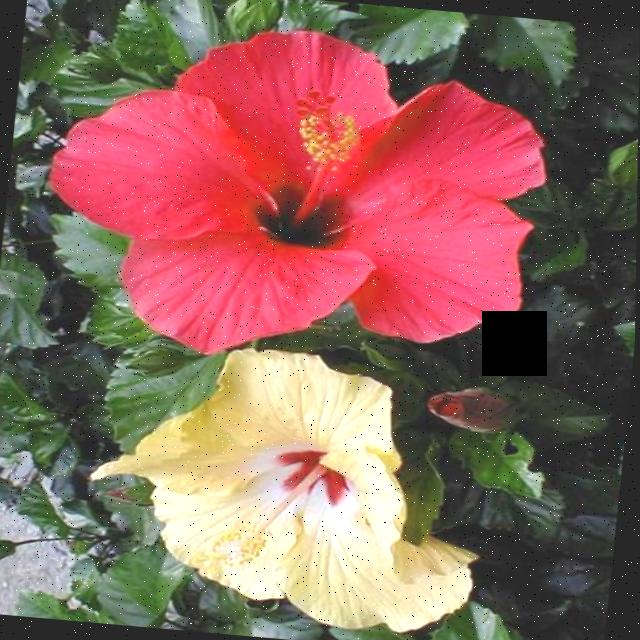hibiscus: (5, 0, 616, 392), (74, 325, 505, 640)
